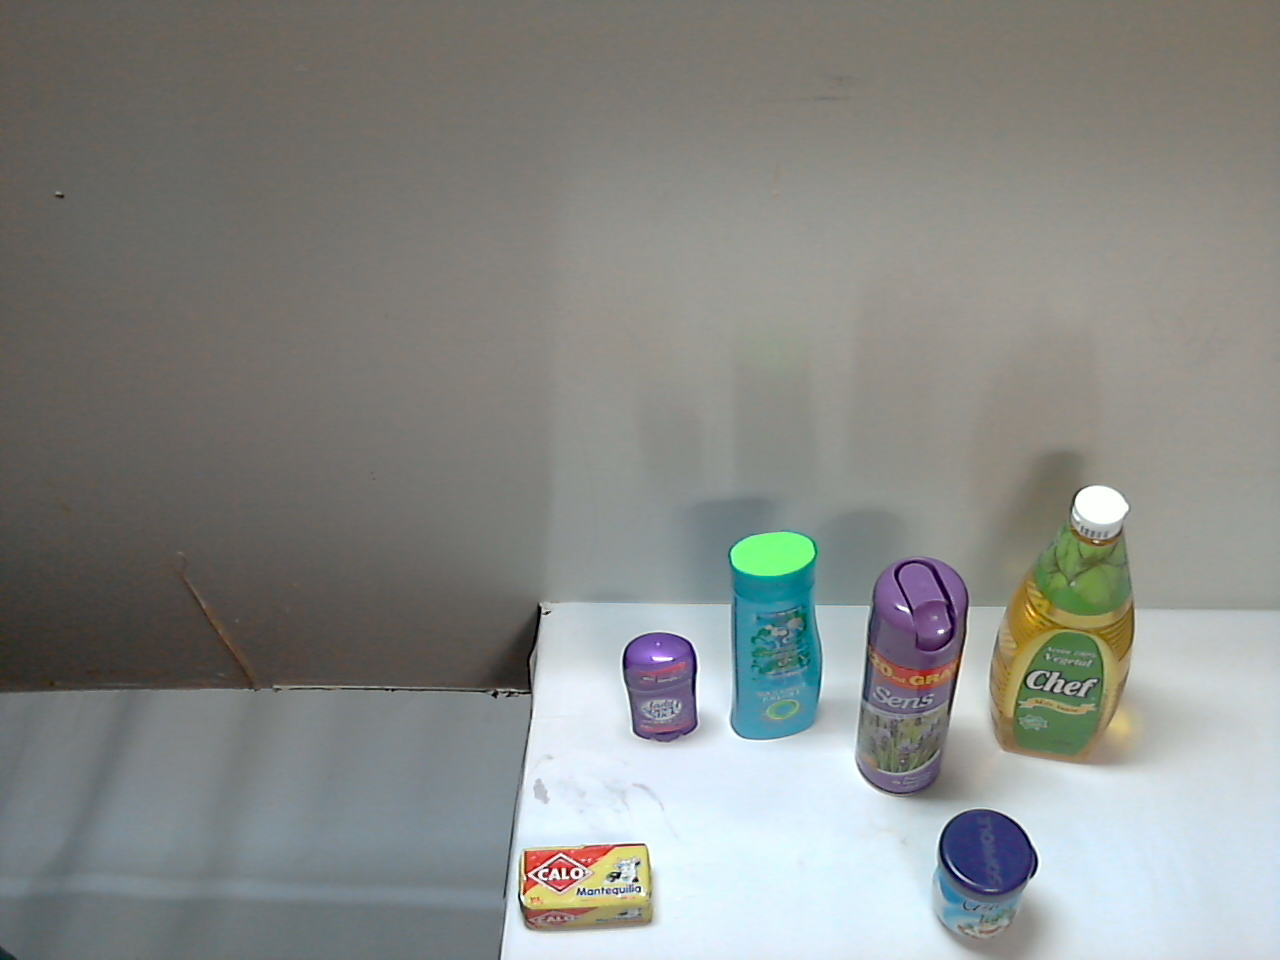cloro: (782, 513, 948, 769)
confort: (942, 531, 1257, 925)
harina: (616, 520, 786, 742)
ketchup: (824, 722, 941, 882)
lata: (713, 703, 816, 876)
papas: (499, 572, 655, 856)
